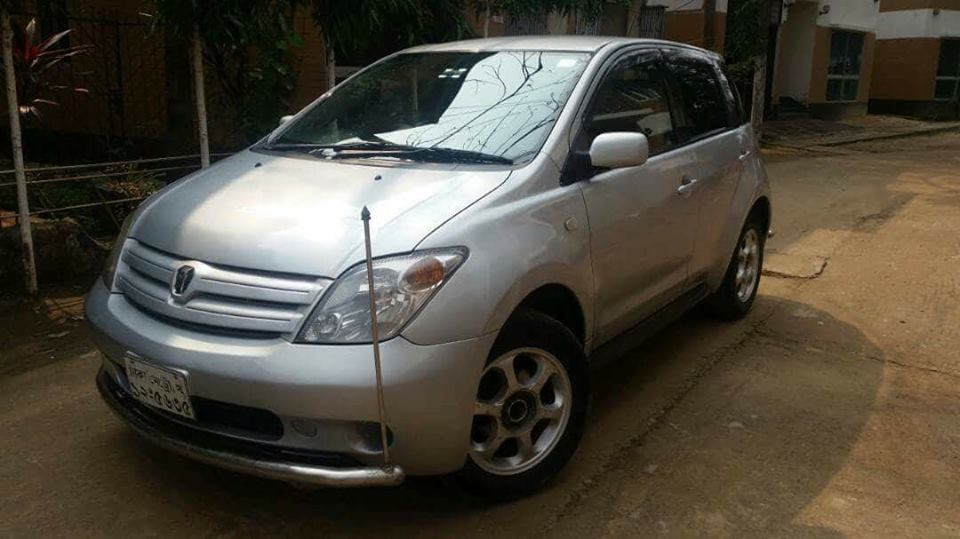registration_plate: (122, 349, 196, 419)
